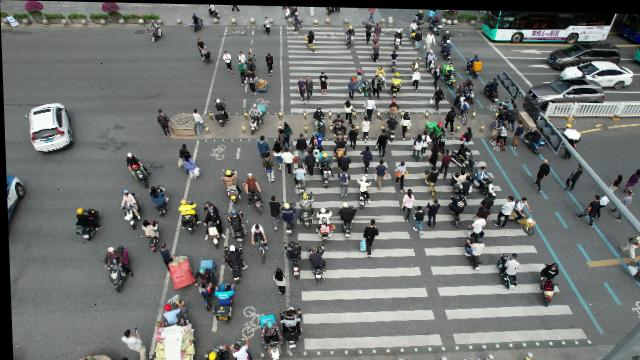non-motor-vehicle: (98, 246, 131, 292), (254, 312, 281, 360), (192, 258, 216, 309), (241, 170, 264, 215), (219, 244, 246, 282), (72, 206, 102, 239), (535, 260, 557, 305), (509, 195, 535, 233), (209, 285, 234, 324), (125, 151, 151, 188), (449, 139, 478, 171), (303, 243, 326, 282), (278, 306, 299, 348), (496, 253, 520, 289), (248, 222, 268, 265), (120, 191, 141, 231), (203, 201, 220, 248), (224, 206, 245, 242), (470, 164, 496, 193), (282, 240, 300, 278), (337, 200, 356, 236), (464, 235, 484, 269), (246, 102, 266, 135), (179, 197, 197, 233), (315, 205, 332, 242), (148, 184, 168, 215), (280, 199, 295, 235), (444, 198, 464, 225), (226, 336, 248, 360), (448, 169, 470, 193), (522, 129, 543, 154), (211, 97, 229, 125), (491, 121, 508, 149), (318, 151, 331, 186), (139, 220, 158, 243), (311, 105, 326, 134), (422, 169, 438, 194), (482, 75, 498, 100), (428, 122, 445, 145), (203, 344, 227, 360), (442, 61, 456, 88), (146, 19, 163, 41), (465, 52, 482, 74), (354, 188, 371, 208), (290, 166, 304, 190), (463, 75, 475, 102), (330, 136, 346, 155), (296, 208, 310, 227), (459, 97, 469, 123), (221, 169, 235, 187), (440, 37, 452, 58), (190, 12, 203, 31), (389, 74, 402, 93), (345, 25, 355, 48), (429, 14, 442, 31), (426, 49, 435, 72), (304, 31, 314, 51), (393, 28, 403, 48), (292, 11, 303, 29), (296, 190, 311, 202), (409, 19, 418, 39), (634, 254, 640, 282), (208, 4, 219, 18), (415, 9, 424, 26), (379, 63, 385, 88), (285, 5, 297, 17), (325, 6, 341, 14), (457, 82, 464, 100), (500, 96, 512, 105), (427, 8, 436, 19), (626, 353, 640, 360)
person: (156, 243, 193, 289), (573, 191, 598, 225), (357, 217, 378, 255), (494, 193, 515, 226), (396, 189, 415, 221), (117, 328, 142, 352), (534, 155, 550, 192), (565, 163, 585, 191), (245, 70, 268, 93), (465, 209, 485, 235), (392, 159, 408, 191), (371, 159, 387, 190), (271, 267, 289, 294), (268, 195, 281, 231), (617, 234, 638, 256), (197, 38, 214, 65), (183, 153, 200, 179), (425, 199, 441, 226), (153, 110, 170, 135), (437, 146, 450, 175), (261, 152, 274, 181), (511, 118, 524, 146), (410, 131, 422, 159), (431, 85, 444, 110), (374, 129, 386, 156), (303, 155, 318, 176), (412, 204, 424, 230), (626, 166, 640, 188), (425, 142, 439, 163), (337, 171, 349, 195), (399, 110, 410, 136), (281, 151, 294, 173), (318, 70, 329, 96), (358, 148, 373, 167), (477, 189, 496, 204), (296, 77, 307, 102), (362, 97, 376, 116), (222, 49, 233, 73), (192, 107, 201, 136), (280, 121, 293, 141), (445, 106, 457, 127), (508, 102, 518, 127), (370, 73, 380, 98), (255, 135, 269, 152), (607, 170, 621, 187), (459, 125, 472, 143), (360, 118, 373, 136), (343, 101, 355, 119), (305, 74, 314, 98), (295, 133, 309, 148), (620, 188, 635, 202), (339, 155, 352, 171), (238, 58, 246, 84), (265, 52, 274, 75), (388, 99, 400, 115), (425, 29, 435, 48), (371, 41, 380, 62), (348, 126, 359, 143), (178, 142, 191, 156), (364, 19, 372, 41), (422, 129, 430, 151), (411, 72, 421, 89), (497, 104, 507, 121), (433, 63, 441, 84), (414, 27, 422, 47), (272, 139, 284, 152), (386, 117, 397, 131), (348, 79, 357, 93), (264, 16, 271, 34), (294, 147, 306, 157), (367, 6, 376, 19), (387, 52, 396, 64), (373, 22, 382, 34), (411, 56, 420, 68), (332, 116, 341, 127), (247, 57, 255, 69), (247, 51, 256, 59), (238, 50, 245, 60), (372, 33, 378, 42)
